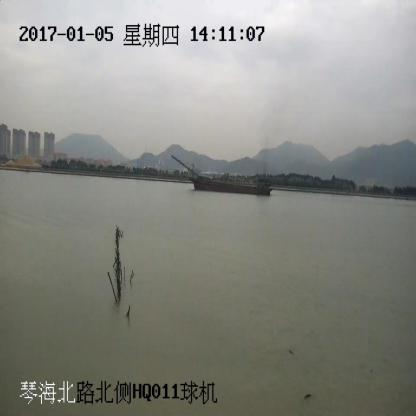Bulk Carrier: (170, 154, 270, 196)
